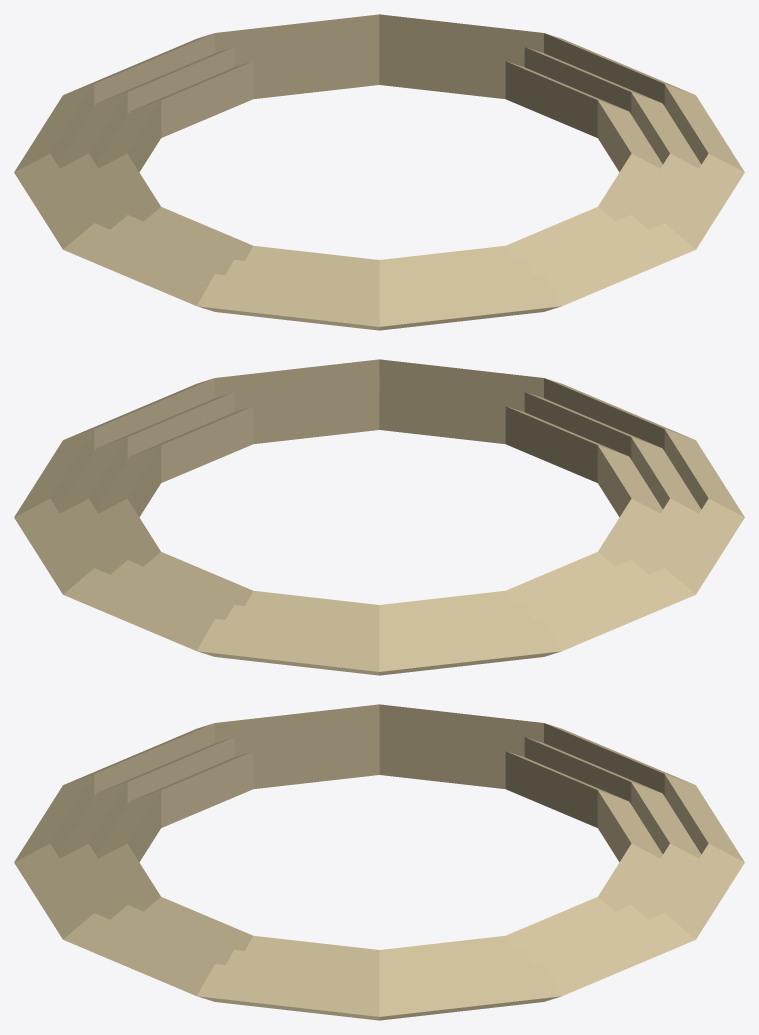
File: rope.glb
3 renders of one model, top to bottom at view 1: azimuth 30°, elevation 25°; view 2: azimuth 150°, elevation 25°; view 3: azimuth 270°, elevation 25°, orthographic.
Parts seen in each view (by area): view 1: Coil.002, Coil, Coil.001; view 2: Coil.002, Coil, Coil.001; view 3: Coil.002, Coil, Coil.001.
Part boxes in pixels (bbox=[...]): Coil.002: bbox=[14, 14, 744, 330]; Coil: bbox=[96, 47, 662, 276]; Coil.001: bbox=[57, 30, 701, 292]; Coil.002: bbox=[14, 359, 744, 675]; Coil: bbox=[96, 392, 662, 621]; Coil.001: bbox=[57, 375, 701, 637]; Coil.002: bbox=[14, 704, 744, 1020]; Coil: bbox=[96, 737, 662, 966]; Coil.001: bbox=[57, 720, 701, 982].
Size of the model in its own units: 0.664 by 0.0381 by 0.664.
